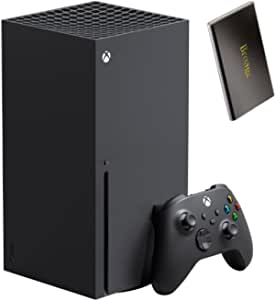gamingconsole: (146, 184, 254, 295)
